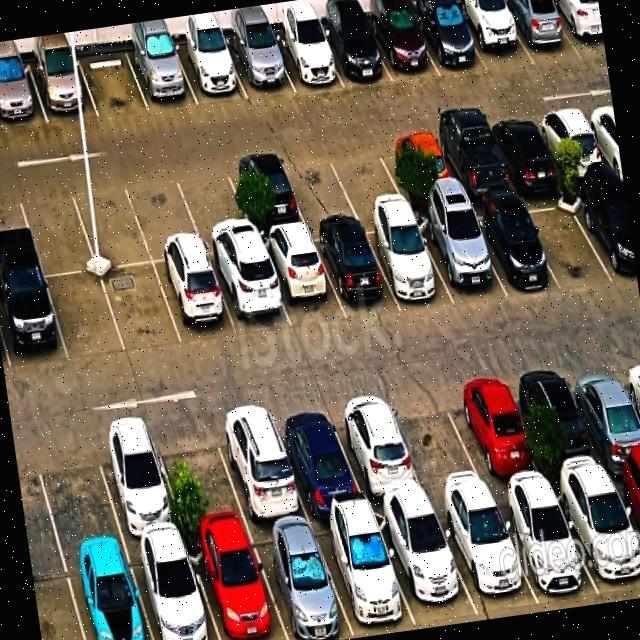empty: (383, 381, 491, 504), (151, 417, 249, 537), (31, 429, 124, 555), (518, 188, 615, 287), (174, 161, 258, 257), (69, 177, 153, 270), (125, 170, 206, 264), (17, 183, 97, 276), (101, 264, 183, 354), (46, 273, 126, 362), (278, 147, 358, 224), (326, 140, 407, 215), (78, 50, 150, 118)
occupied: (311, 513, 417, 638), (492, 488, 600, 605), (433, 496, 539, 615), (445, 372, 547, 494), (374, 507, 479, 625), (248, 524, 354, 640), (211, 403, 309, 528), (327, 392, 429, 508), (269, 400, 367, 519), (90, 422, 185, 544), (514, 363, 609, 484), (551, 475, 640, 602), (186, 531, 287, 640), (127, 539, 219, 640), (413, 209, 508, 306), (464, 201, 558, 297), (258, 229, 346, 331), (564, 358, 640, 474), (310, 222, 400, 319), (362, 216, 455, 309), (63, 547, 152, 640), (155, 258, 238, 346), (209, 252, 292, 337), (570, 181, 638, 284), (430, 123, 515, 202), (225, 153, 307, 234), (0, 274, 68, 371), (485, 114, 564, 189), (454, 1, 535, 74), (379, 132, 461, 204), (533, 107, 611, 180), (497, 0, 582, 65), (366, 10, 440, 84), (411, 6, 488, 77), (317, 19, 392, 88), (28, 56, 99, 124), (126, 45, 198, 112), (174, 41, 248, 106), (270, 29, 344, 93), (226, 35, 295, 99), (548, 0, 606, 58), (0, 63, 48, 131), (609, 469, 640, 544)
